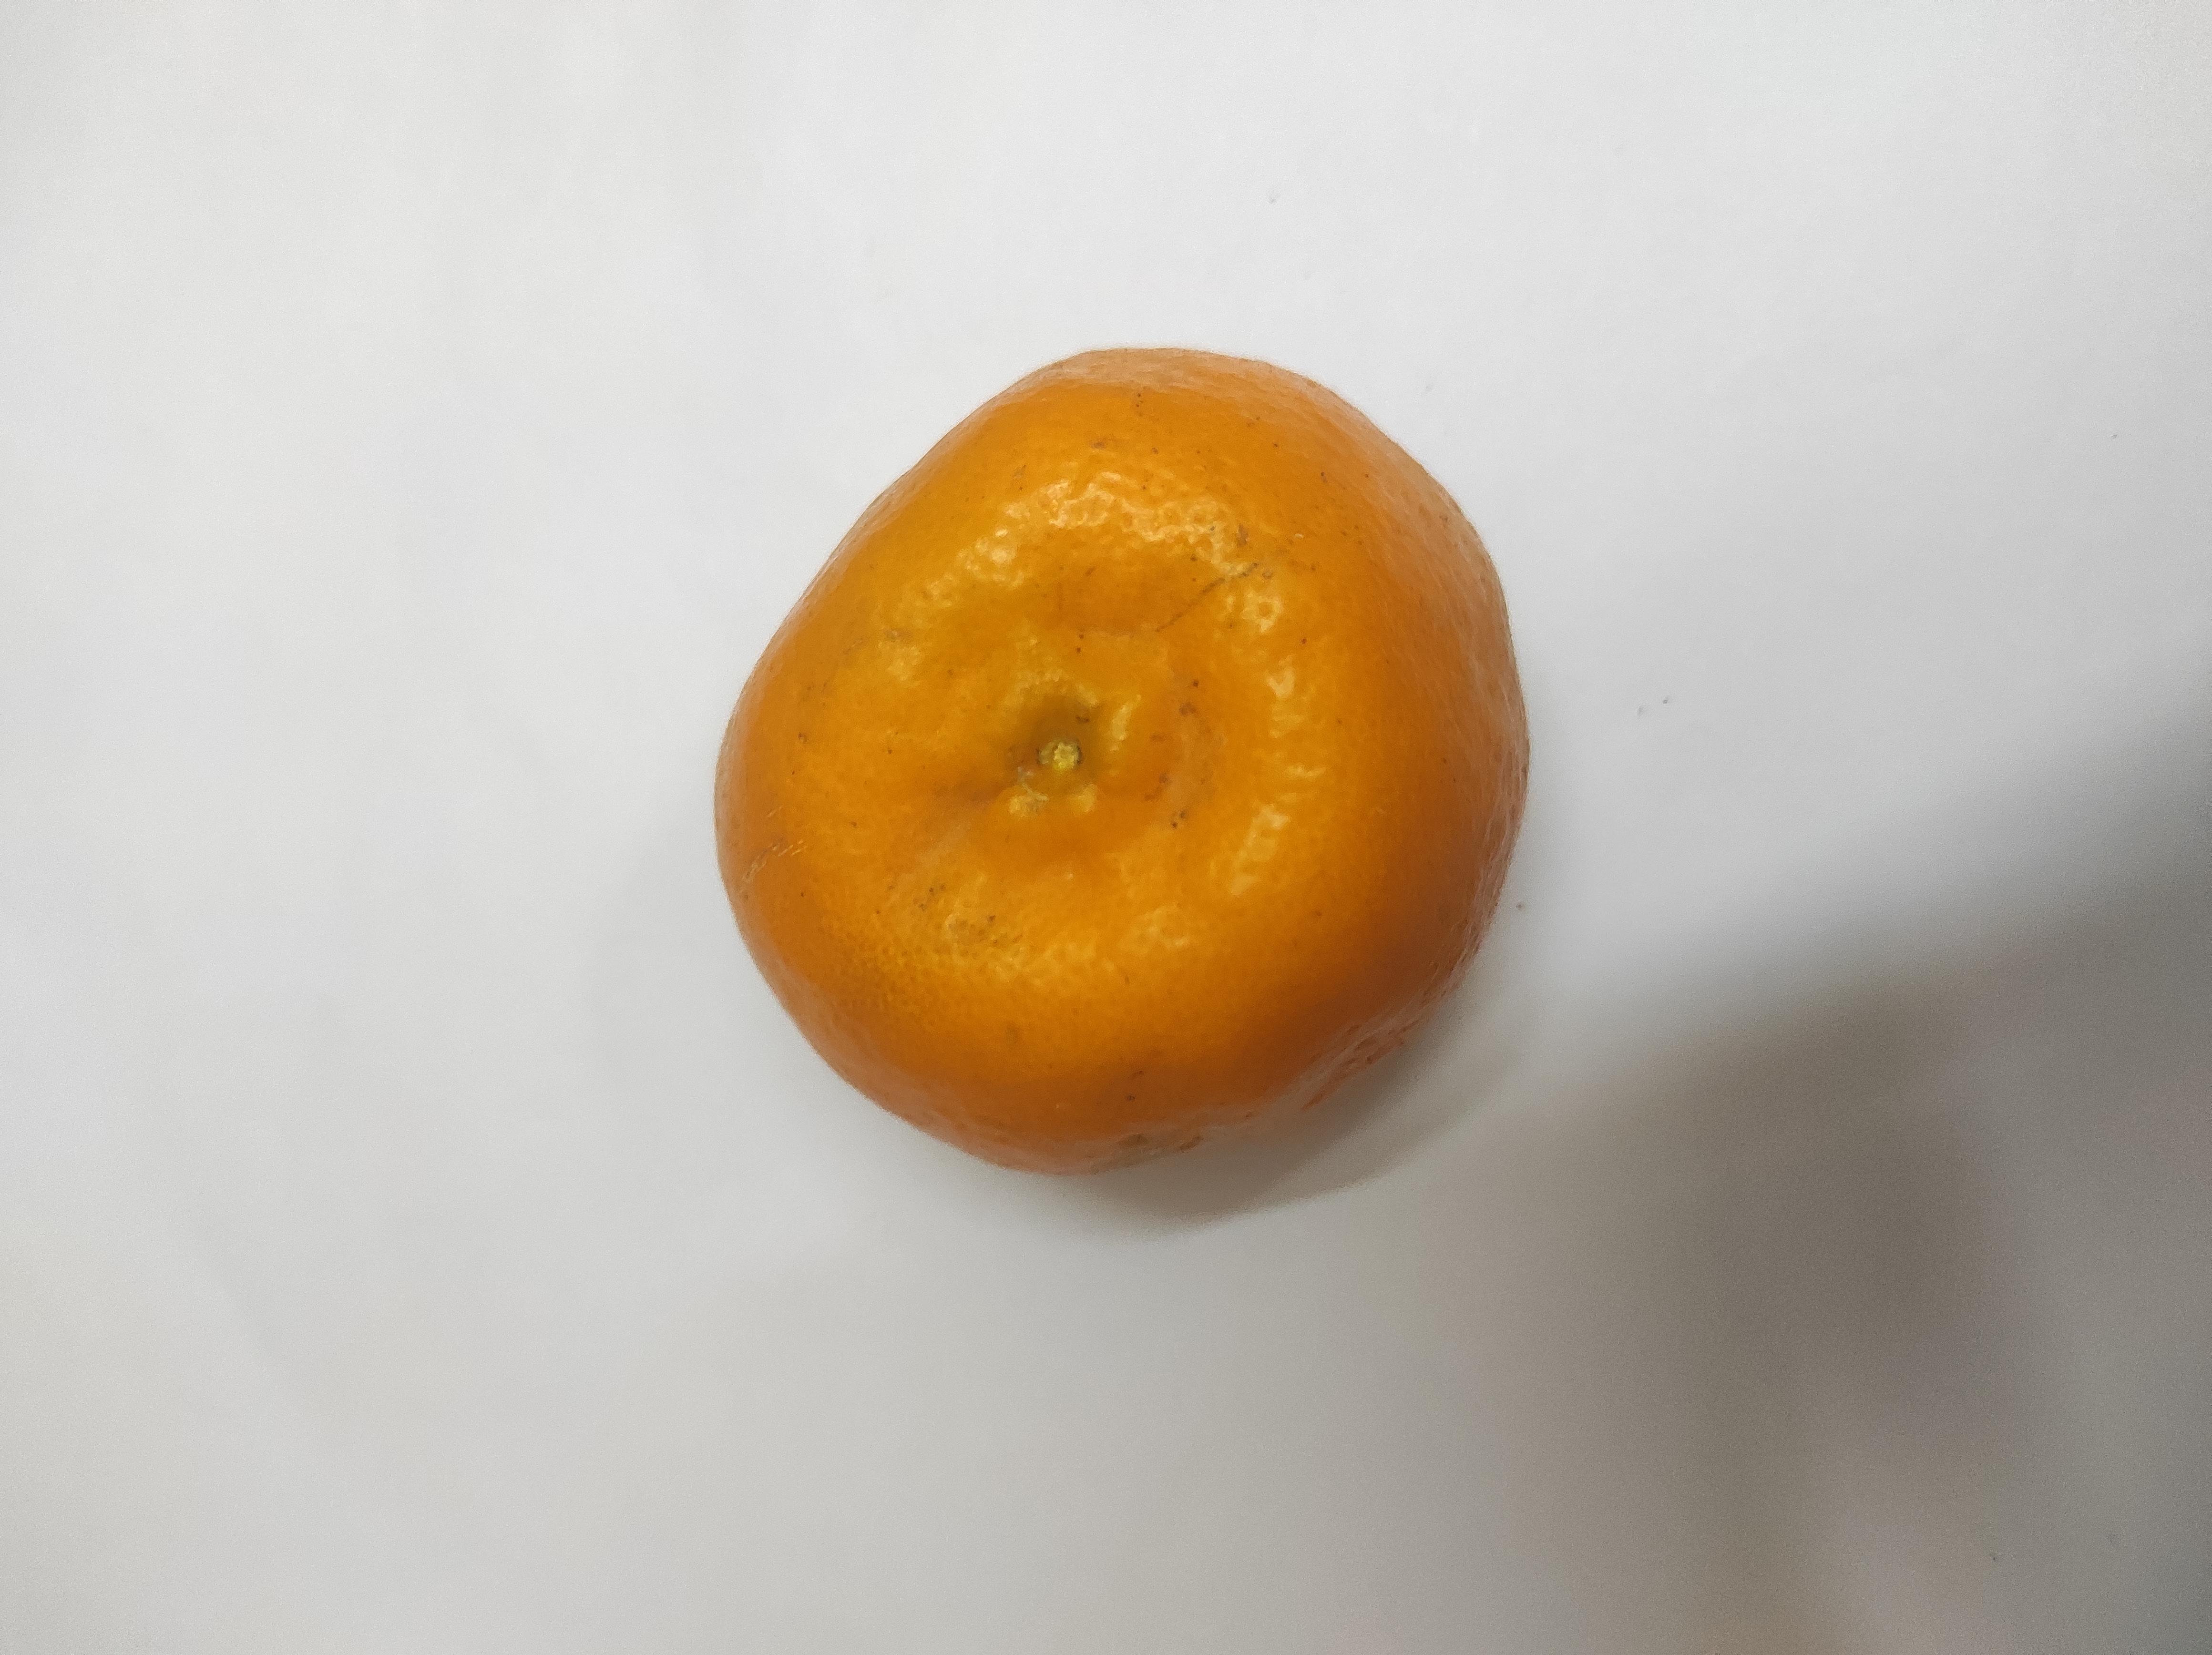Ripe: (682, 490, 1516, 1311)
